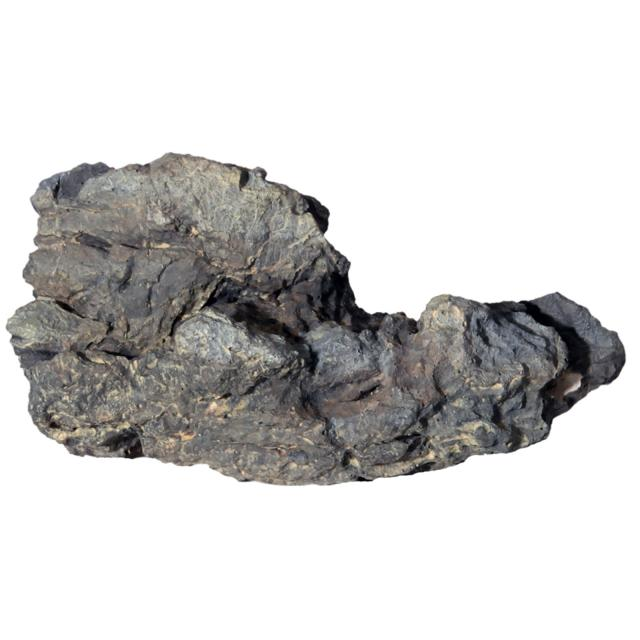Igneous: (29, 146, 632, 488)
